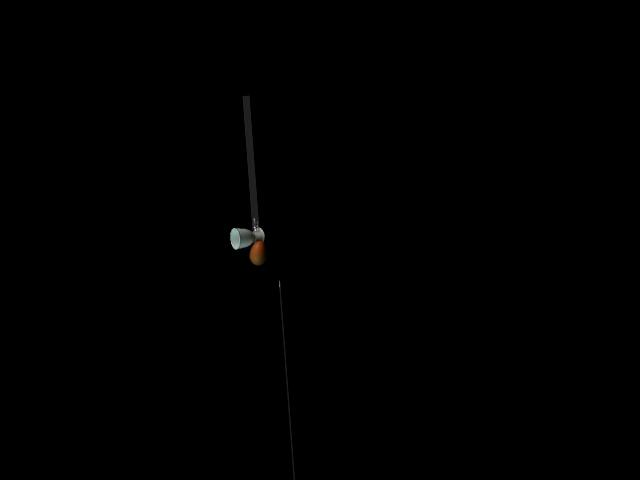egg: (248, 240, 267, 265)
